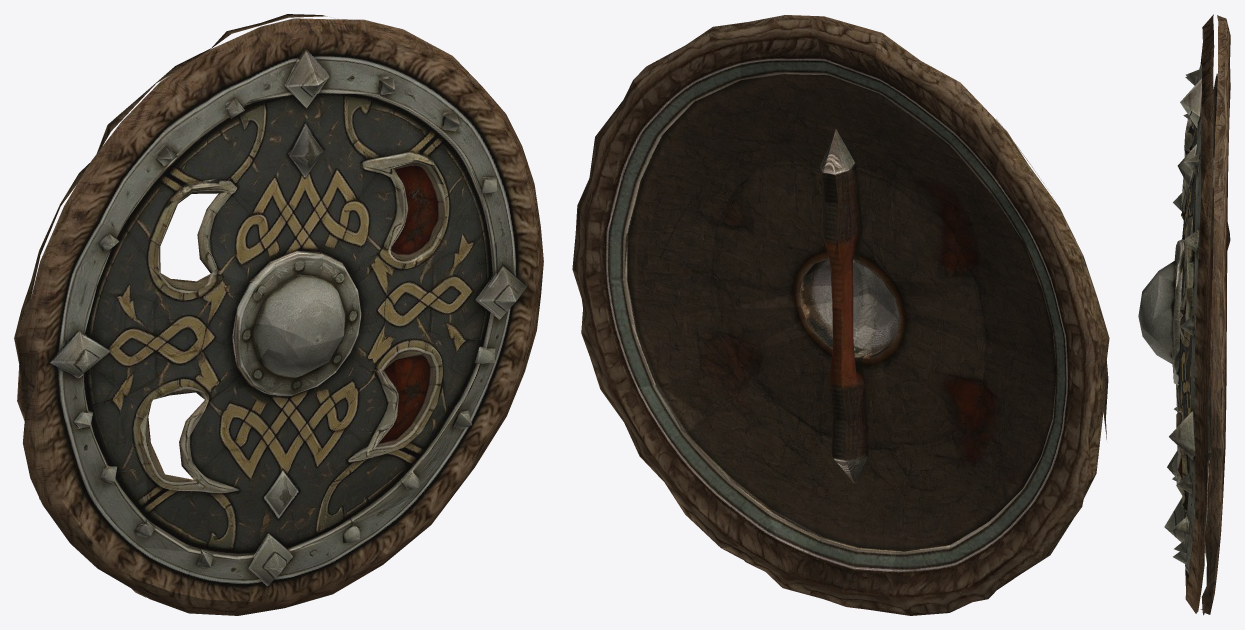
Rendered from reinforced_highland_targe.glb.
3 renders of one model, left to right at view 1: azimuth 30°, elevation 25°; view 2: azimuth 150°, elevation 25°; view 3: azimuth 270°, elevation 25°, orthographic. The views are drawn at different scales.
Parts seen in each view (by area): view 1: Reinforced Highland Targe; view 2: Reinforced Highland Targe; view 3: Reinforced Highland Targe.
Boxes of the visible parts, x1,y1,x2,y2 form: Reinforced Highland Targe: (14,14,543,615); Reinforced Highland Targe: (572,15,1109,615); Reinforced Highland Targe: (1138,14,1230,615).
Size of the model in its own units: 0.4661 by 0.49 by 0.0746.
Materials: 1 (1 with a texture image).
